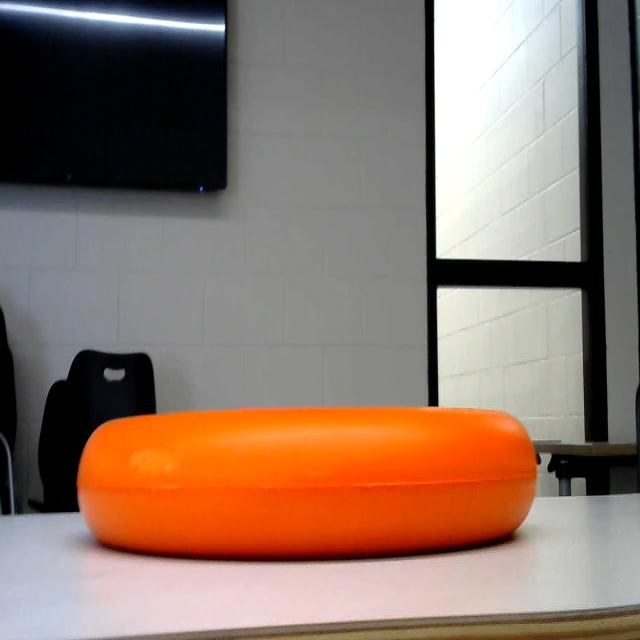note: (75, 411, 544, 568)
